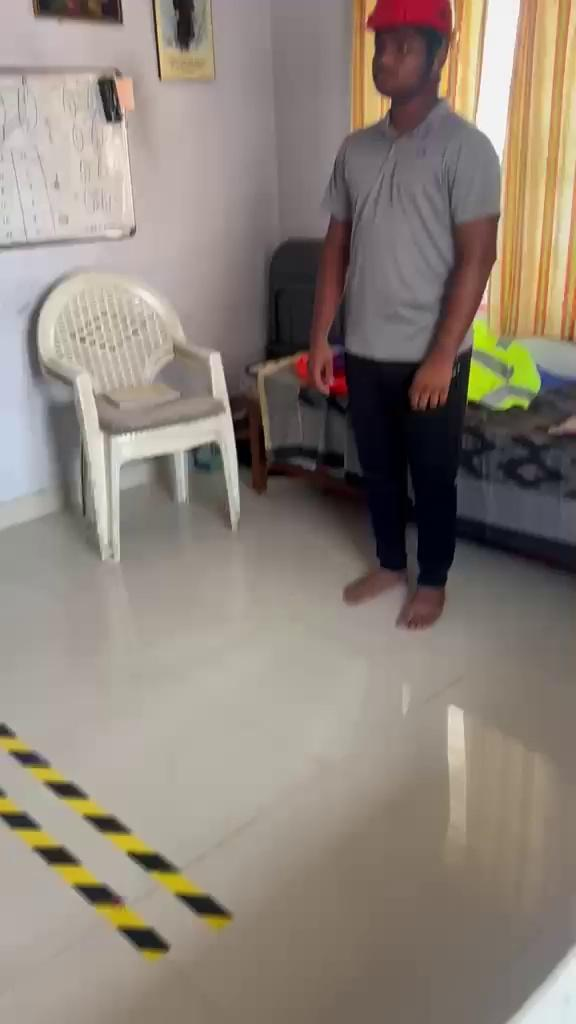BorderLine: (0, 720, 233, 961)
Helmet: (365, 0, 452, 35)
No_Vest: (323, 98, 501, 364)
Person: (308, 0, 501, 631)
